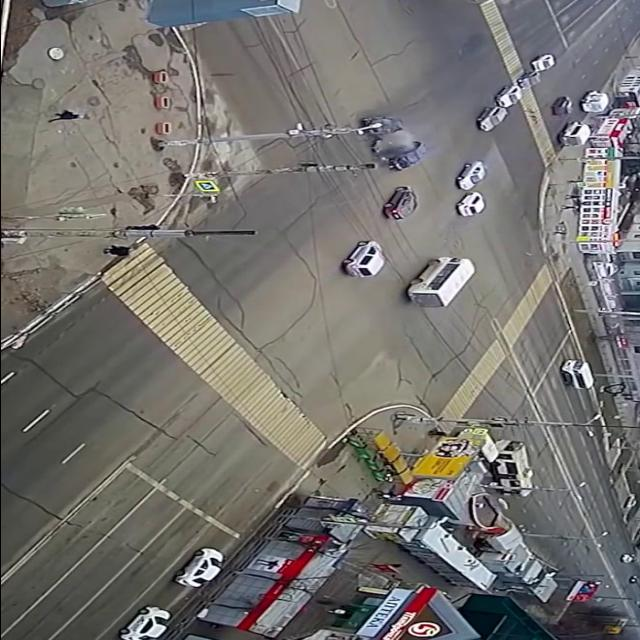accident: (345, 112, 439, 175)
non_accident: (469, 51, 563, 135)
